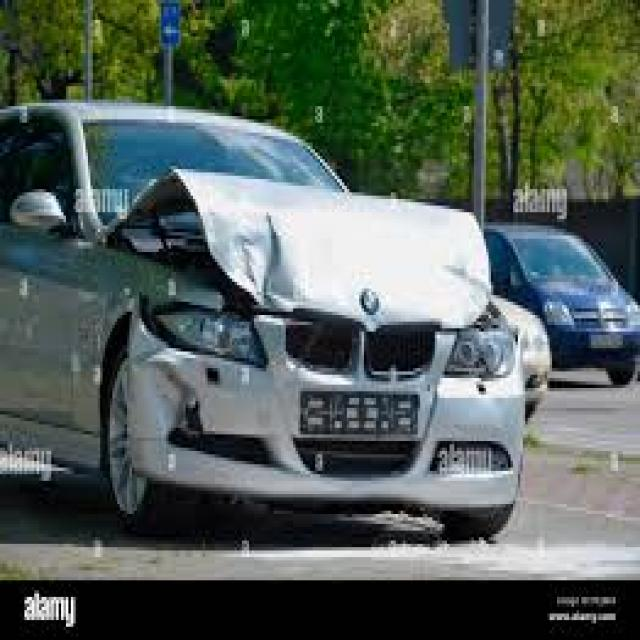moderate: (65, 133, 528, 538)
